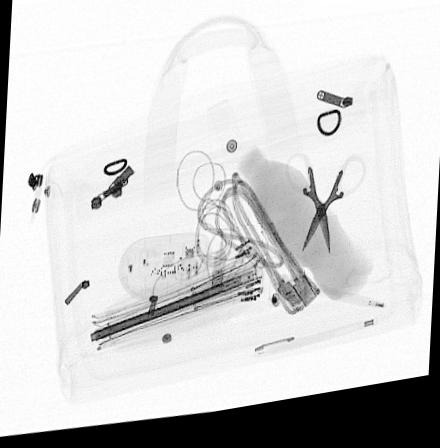Scissors: (283, 161, 365, 267)
